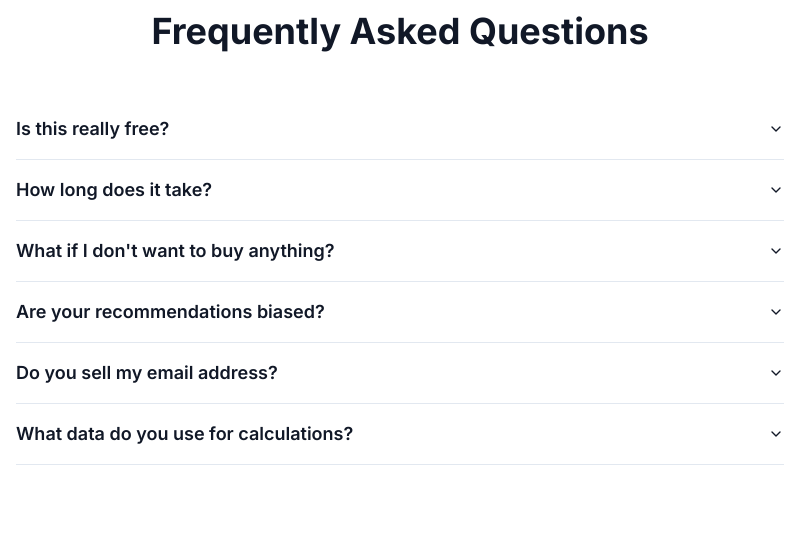
it: FAQ Component › shows answer when question is clicked
What coordinates should you click on to do the following:
click the button "Is this really free?"
I would click on:
 (93, 128)
Its box is [16,99,784,159].
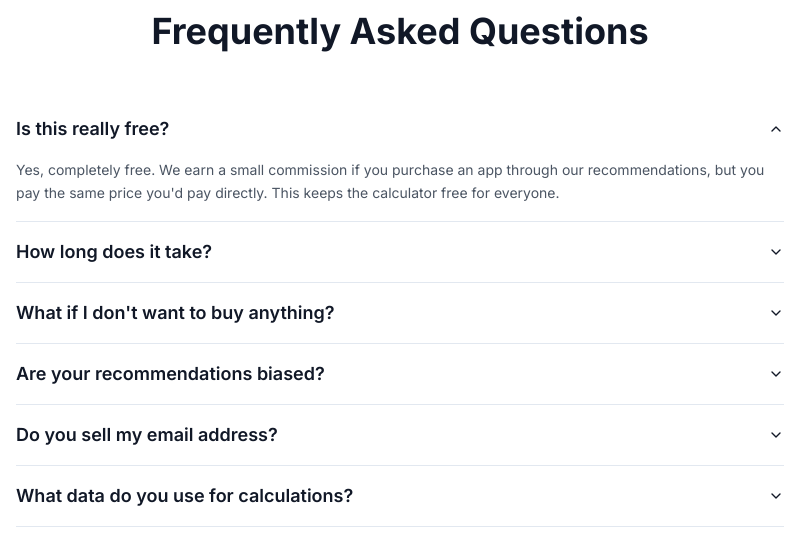
Now the text "We earn a small commission" is shown, box [16,161,764,201]
